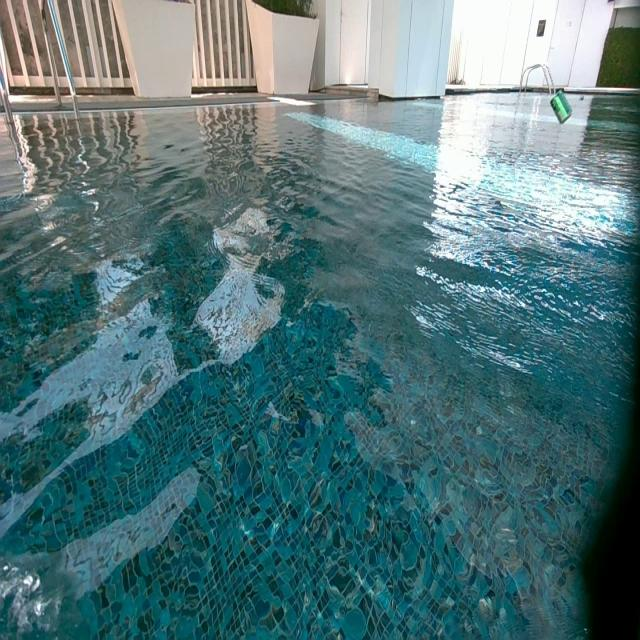Cans: (550, 91, 574, 126), (578, 96, 585, 101)
